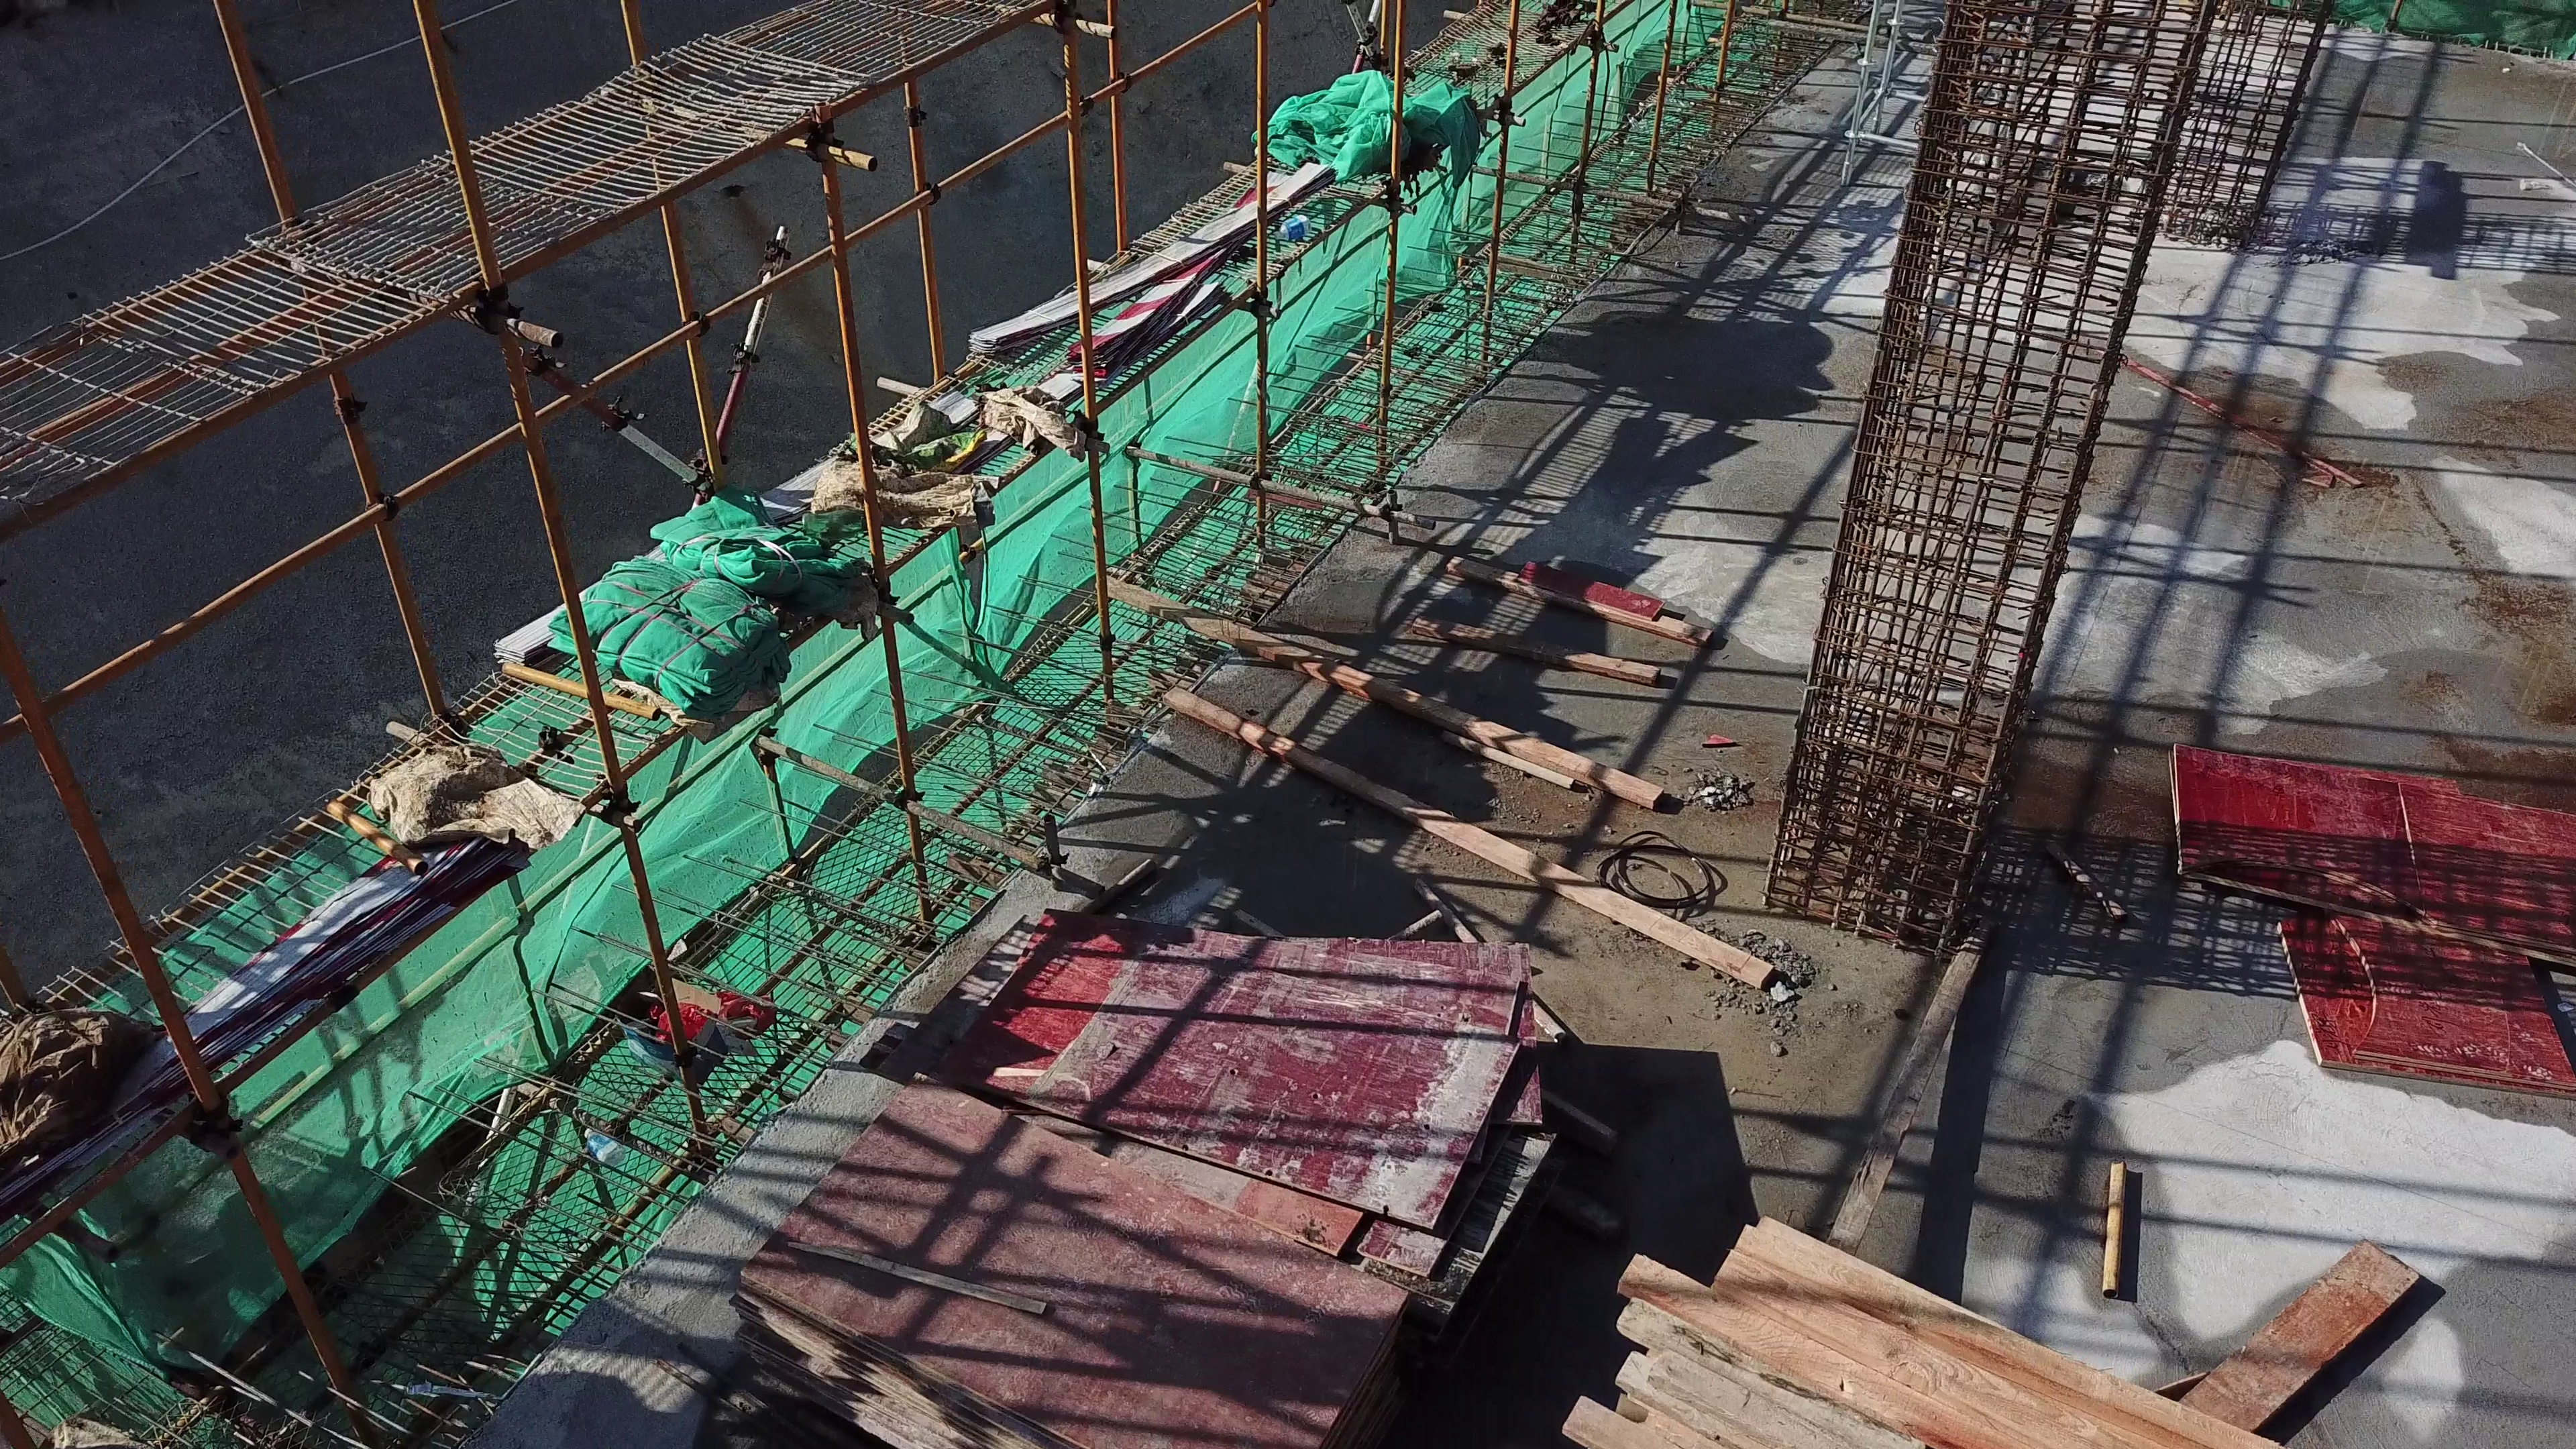board: (717, 899, 1569, 1449), (2157, 718, 2576, 1122)
wood: (1546, 1192, 2327, 1449)
